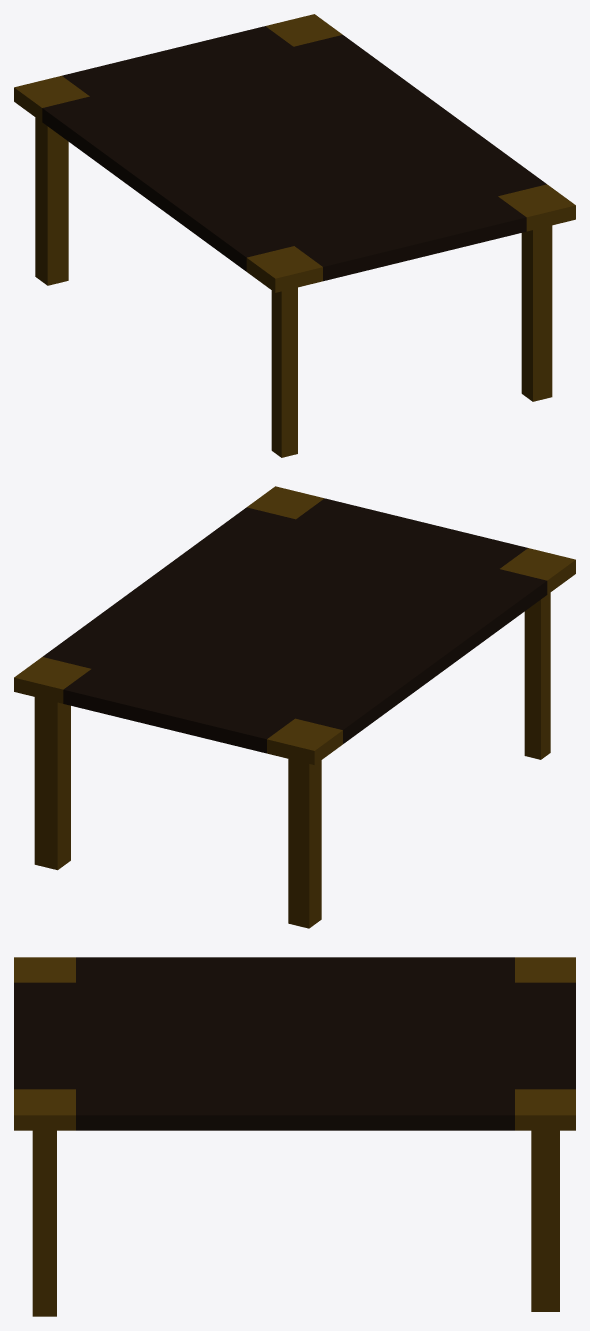
File: Table.fbx
The picture shows the model from 3 angles, top to bottom: view 1: azimuth 30°, elevation 25°; view 2: azimuth 150°, elevation 25°; view 3: azimuth 270°, elevation 25°; orthographic projection. The views are drawn at different scales.
Parts seen in each view (by area): view 1: pCube1; view 2: pCube1; view 3: pCube1.
Part boxes in pixels (left/top/right/bottom): pCube1: left=14, top=14, right=575, bottom=457; pCube1: left=14, top=486, right=575, bottom=928; pCube1: left=14, top=957, right=575, bottom=1316.
Bounding box in the file's own units: 133 × 82.07 × 200.
